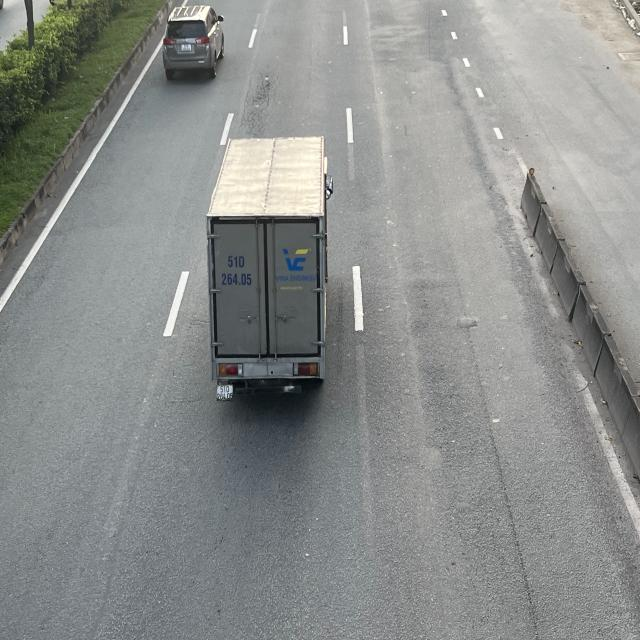car: (164, 2, 227, 76)
truck: (210, 136, 337, 402)
